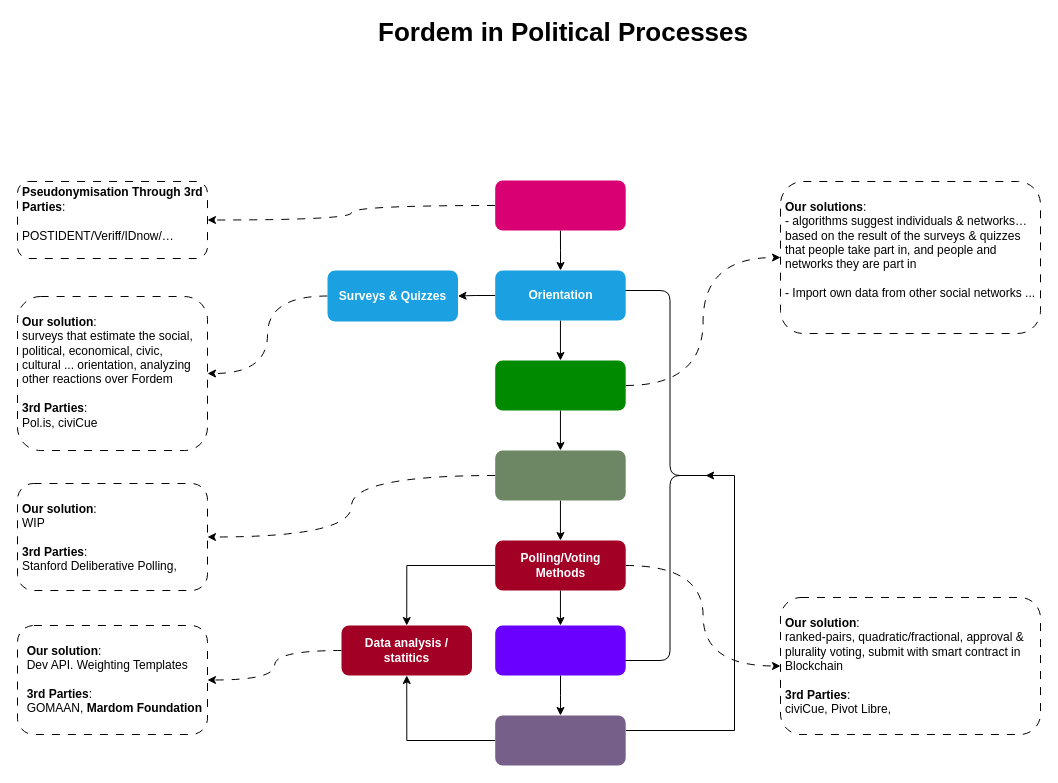
Image size: 1058x783. Some labels were removed from this diagram. Here are the shapes that lost their labels. From the top down, the centre of each, then its label:
pixel 560 205: Pseudonymisation
pixel 560 385: Networking
pixel 560 475: Deliberation
pixel 560 650: Action
pixel 560 740: Reflexion
